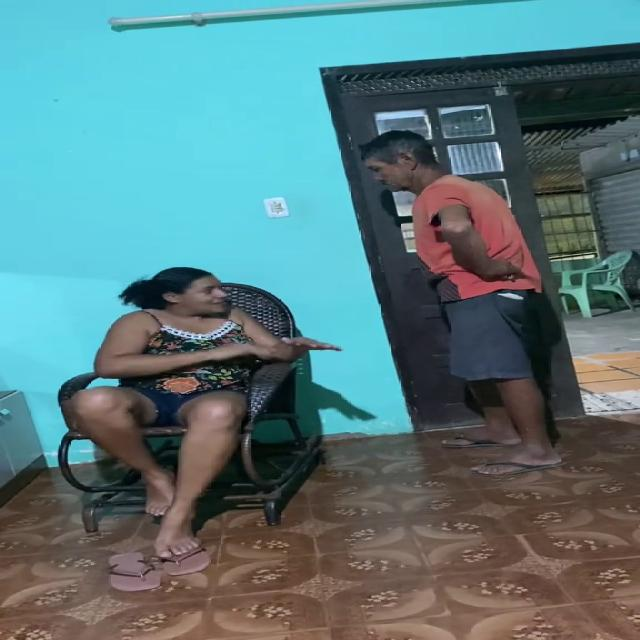em_pe: (361, 139, 564, 461)
sentado: (60, 268, 308, 575)
